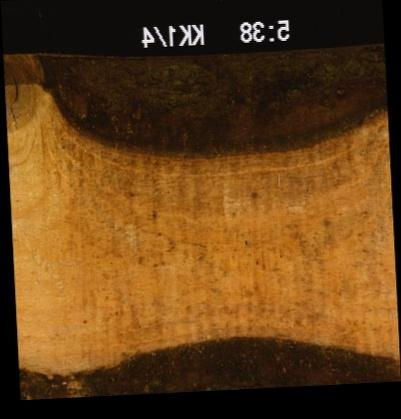sound_knot: (4, 60, 35, 128)
wave: (5, 41, 385, 157), (18, 334, 398, 389)
